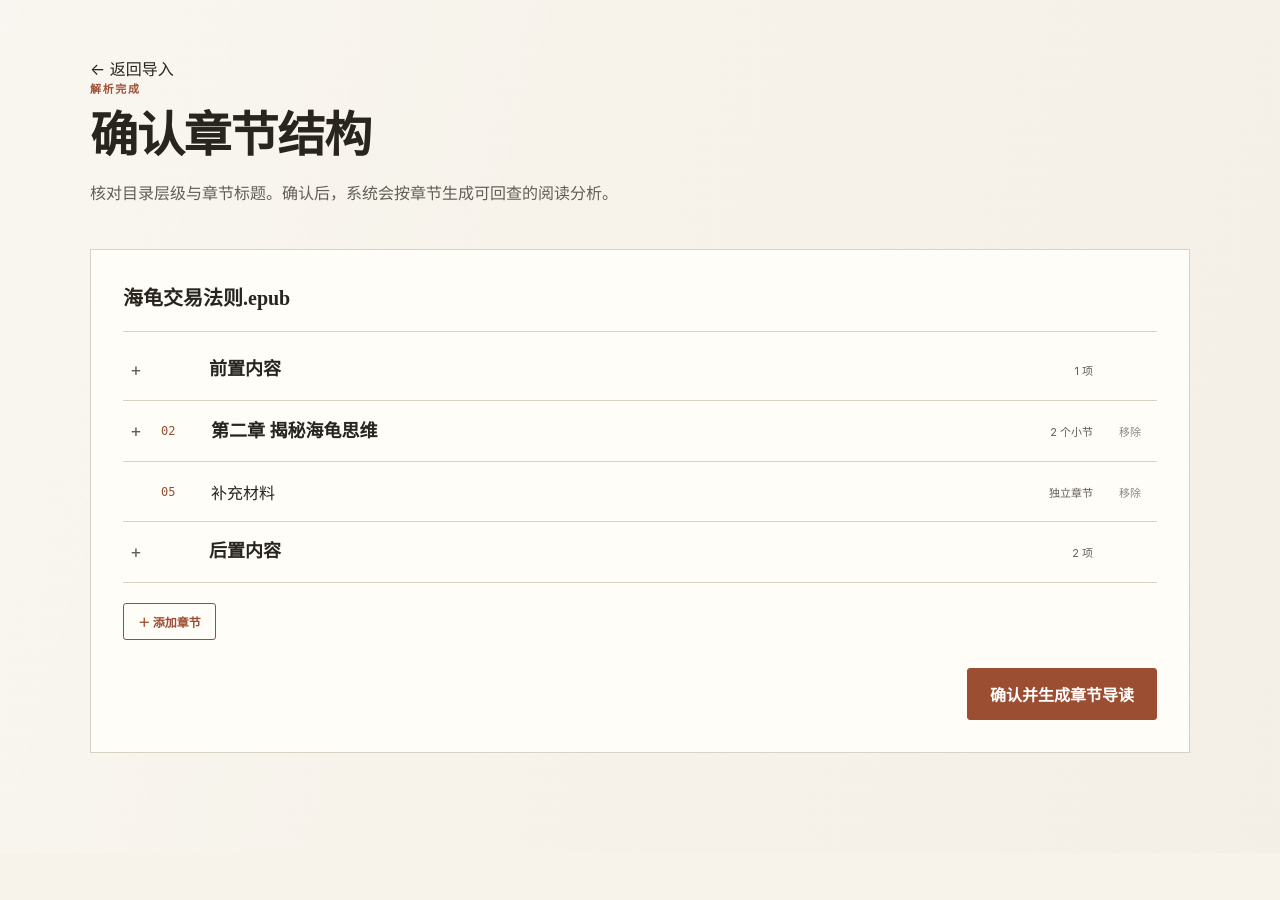
Test: ChapterEditor hierarchy › removes one child without removing its sibling
Click the button named "展开「第二章 揭秘海龟思维」的小节" at (136, 431), box [123,418,149,444]
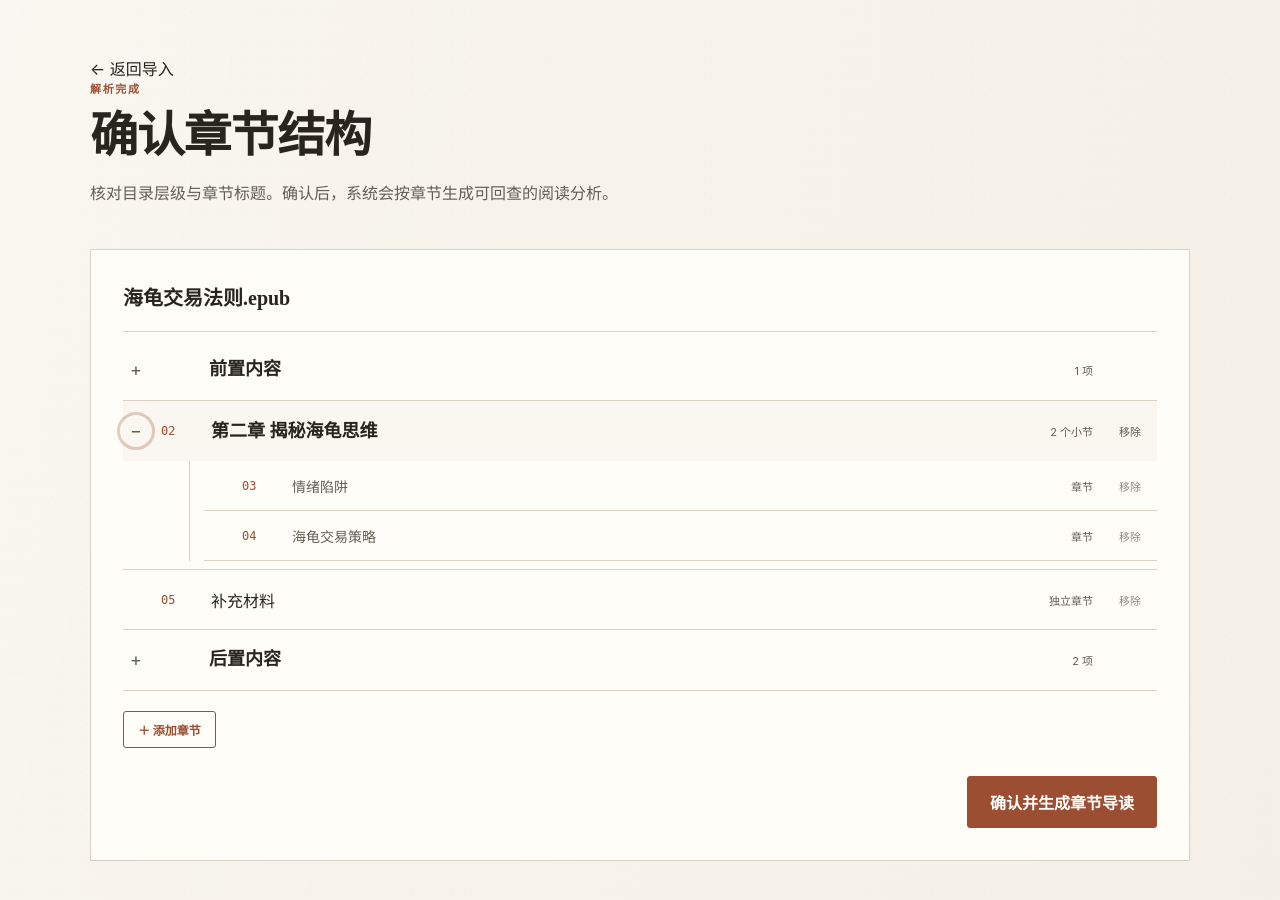
Click the button with aria-label "移除「情绪陷阱」" at (1130, 486), box [1103,470,1157,502]
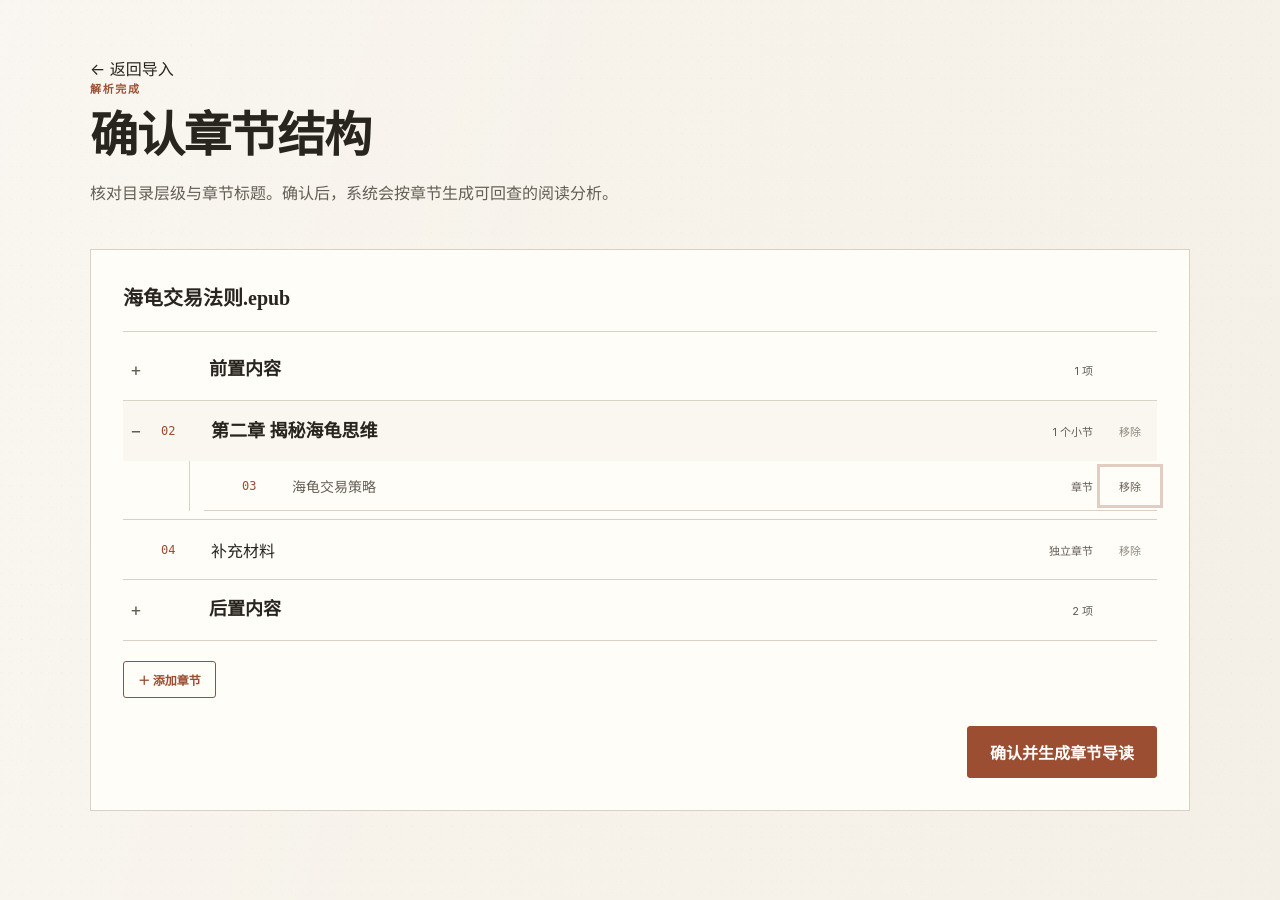
Expected: the field showing "情绪陷阱" is not shown
Expected: the field showing "海龟交易策略" next to "03" is shown, [290,470,1001,502]
